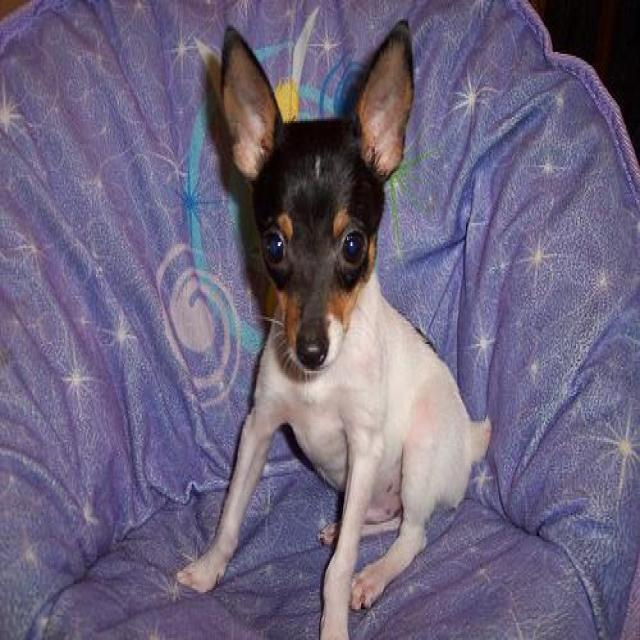toy_terrier: (175, 17, 493, 638)
